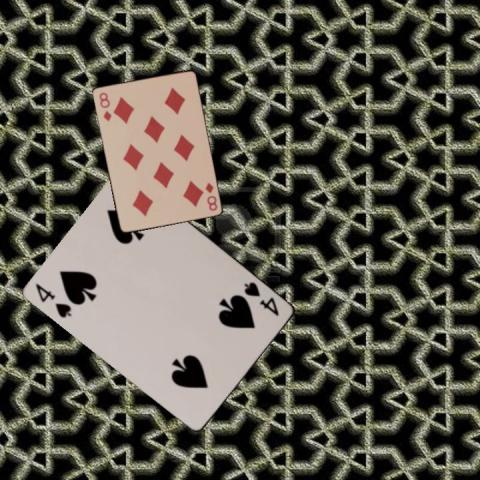4s: (33, 280, 73, 319), (242, 279, 282, 317)
8d: (96, 89, 113, 123), (202, 179, 219, 212)
